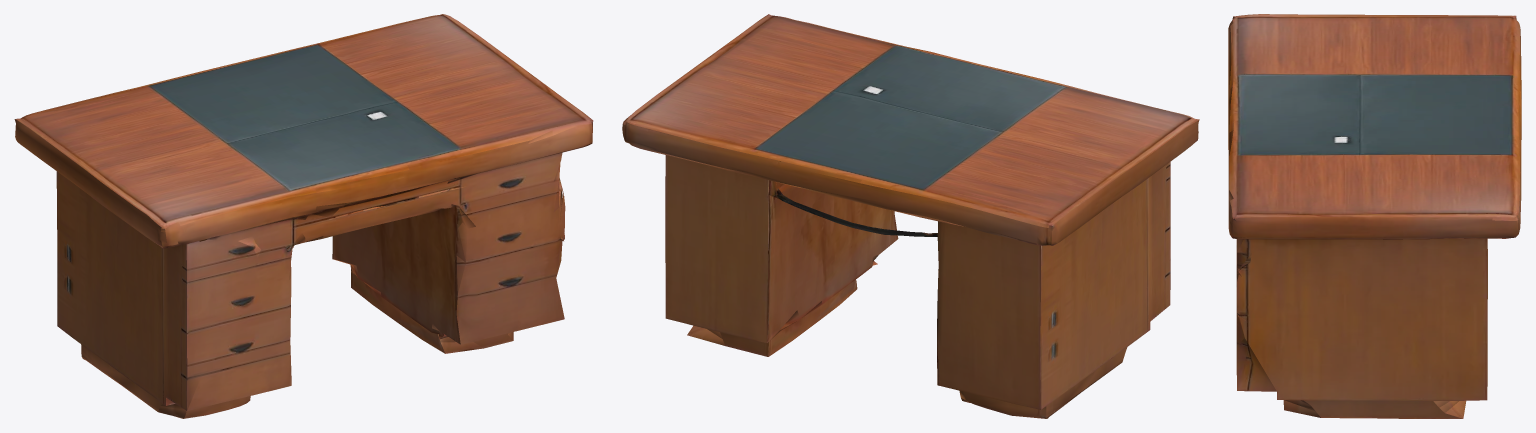
File: okul-sirasi.glb
3 views of the same model, side by side, from view 1: azimuth 30°, elevation 25°; view 2: azimuth 150°, elevation 25°; view 3: azimuth 270°, elevation 25° (orthographic). The views are drawn at different scales.
Parts seen in each view (by area): view 1: Mesh0; view 2: Mesh0; view 3: Mesh0.
Boxes of the visible parts, <box> form: Mesh0: <box>14,14,593,418</box>; Mesh0: <box>622,14,1199,418</box>; Mesh0: <box>1228,14,1521,418</box>.
Bounding box in the file's own units: 1.99 × 1.01 × 1.21.
1 material, 1 textured.
